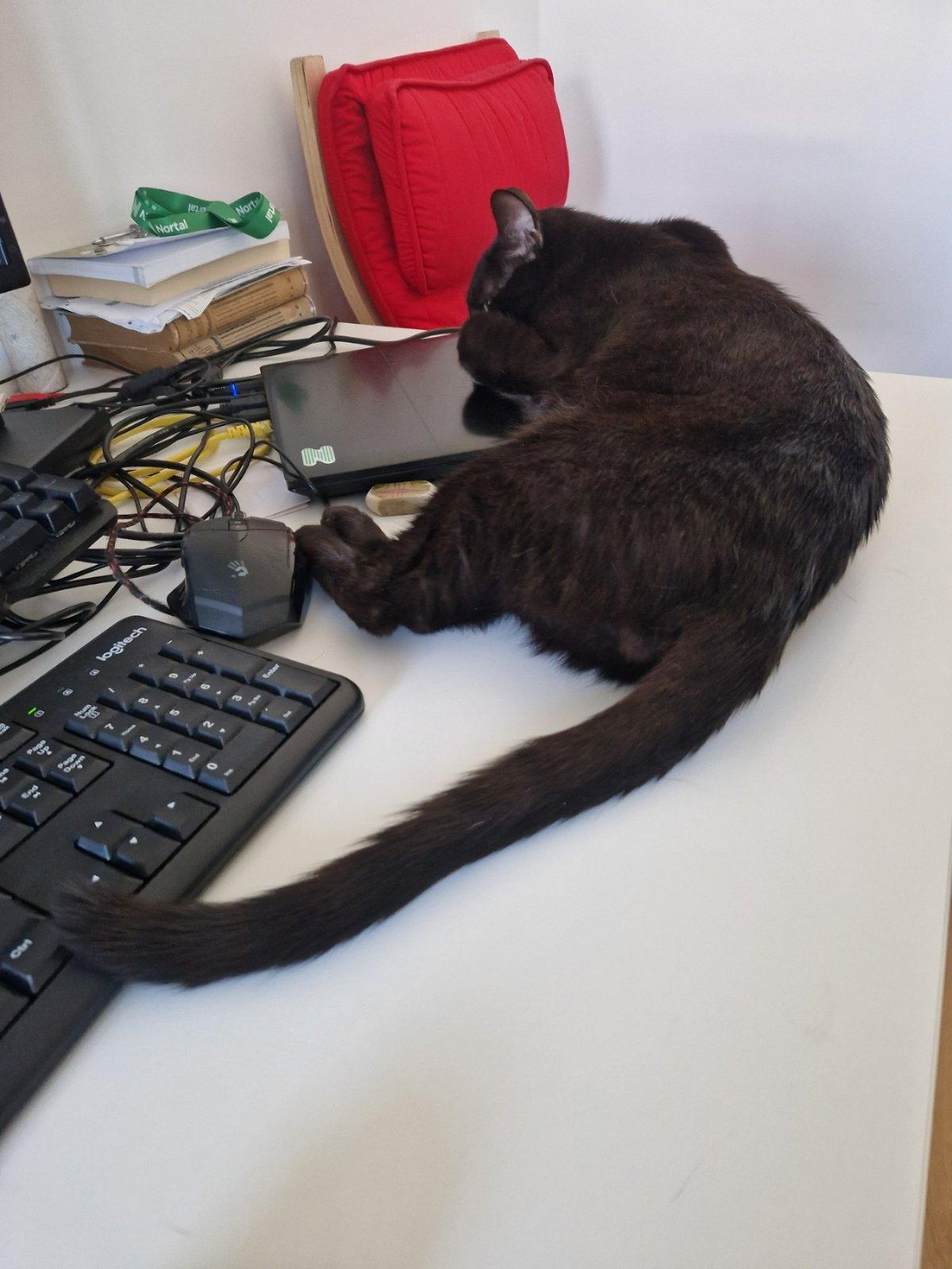macka: (34, 183, 887, 989)
